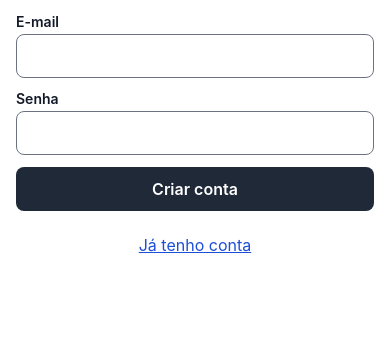
Scenario: C03: invalid input explains the rules (valid e-mail, at least 6 characters)
Type "sem-arroba" into the field with test id "signup.email" at (195, 56), box left=16, top=34, right=374, bottom=78
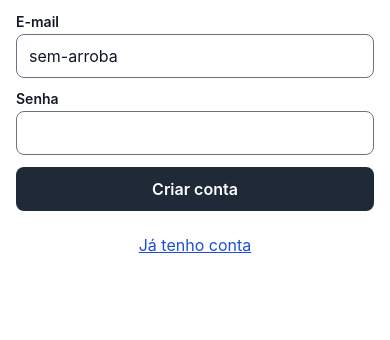
Type "123" into the password field with test id "signup.password" at (195, 133), box left=16, top=111, right=374, bottom=155
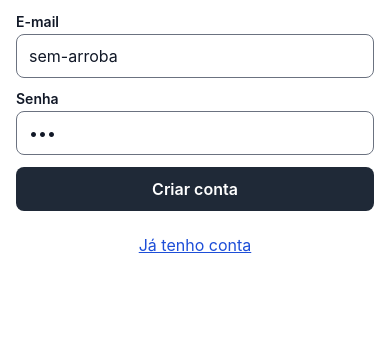
Click the button with test id "signup.submit" at (195, 189), box left=16, top=167, right=374, bottom=211
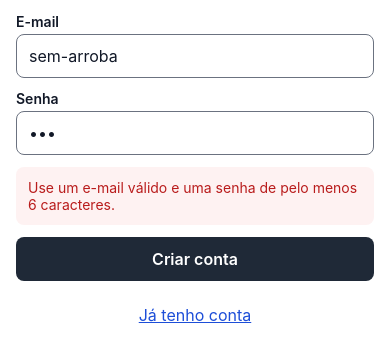
Now the message with test id "signup.error" reads "Use um e-mail válido e uma senha de pelo menos 6 caracteres.", box left=28, top=179, right=361, bottom=213
